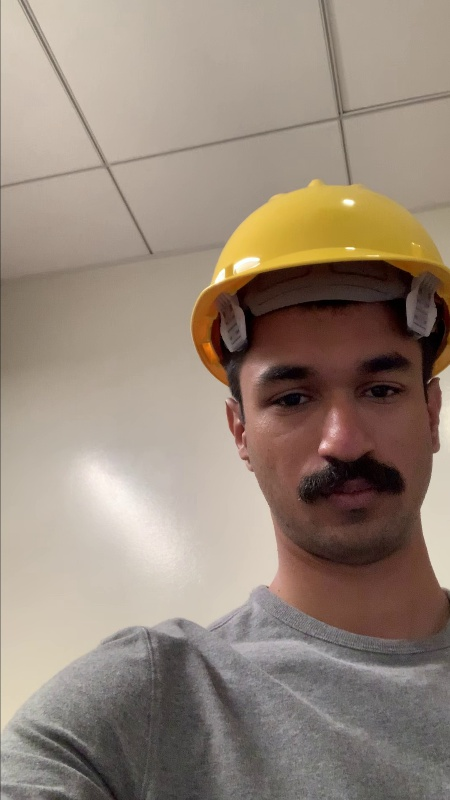helmet: (191, 174, 450, 283)
